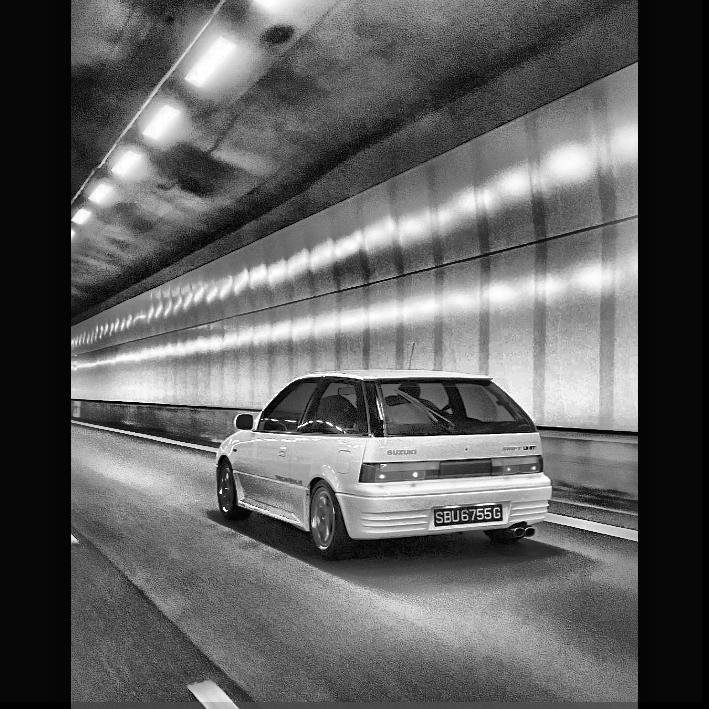License-Plates: (433, 504, 502, 526)
